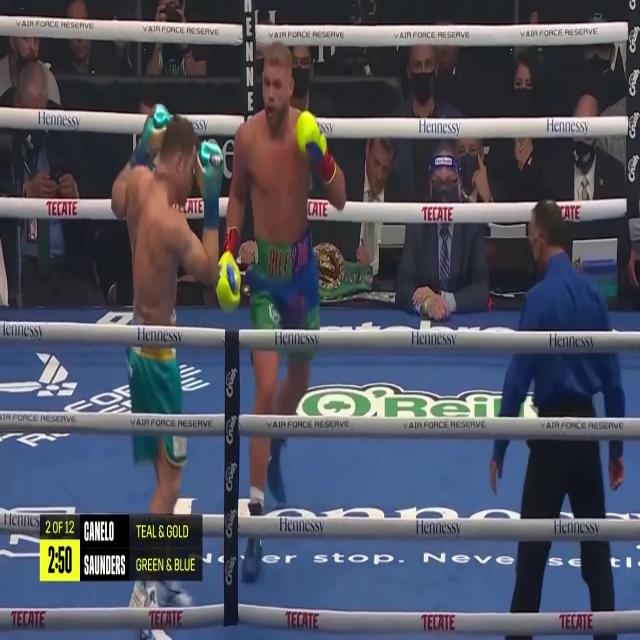boxer_1: (226, 43, 311, 244), (324, 164, 346, 208)
boxer_2: (111, 115, 218, 324)
gloves_1: (295, 109, 337, 184), (217, 226, 240, 310)
gloves_2: (129, 103, 170, 166), (197, 139, 223, 228)
